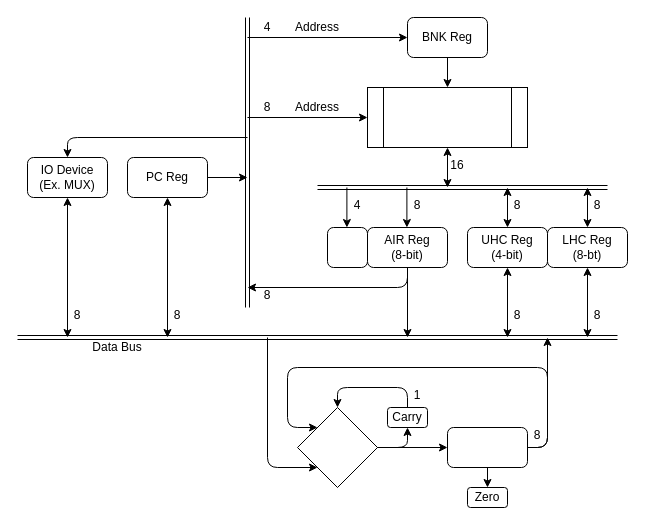
This 645x525 diagram has some shape labels left out. The centre of each missing label's shape, as x and y in pixels:
AC Reg: (487,447)
ALU: (337,447)
Memory 16 banks 12-bit words 256 words / bank: (447,117)
OIR (4-bit): (347,247)
